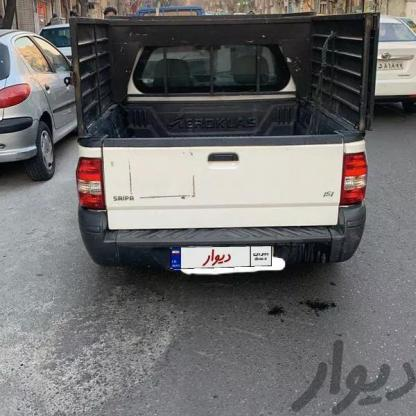Car: (57, 0, 392, 320), (0, 17, 80, 180), (331, 19, 416, 136)
